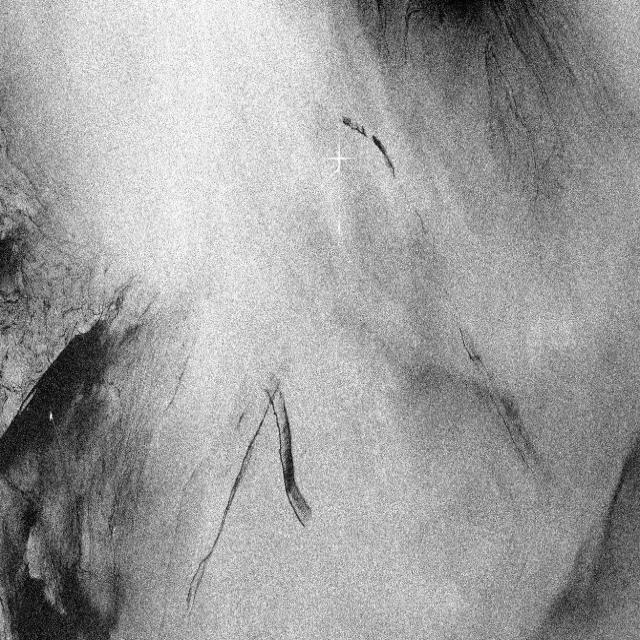look-alike: (0, 297, 154, 638), (367, 0, 588, 161), (527, 410, 639, 640), (1, 169, 59, 323)
oil-spill: (180, 409, 259, 619), (454, 311, 546, 486), (333, 95, 428, 241), (262, 365, 324, 533)
